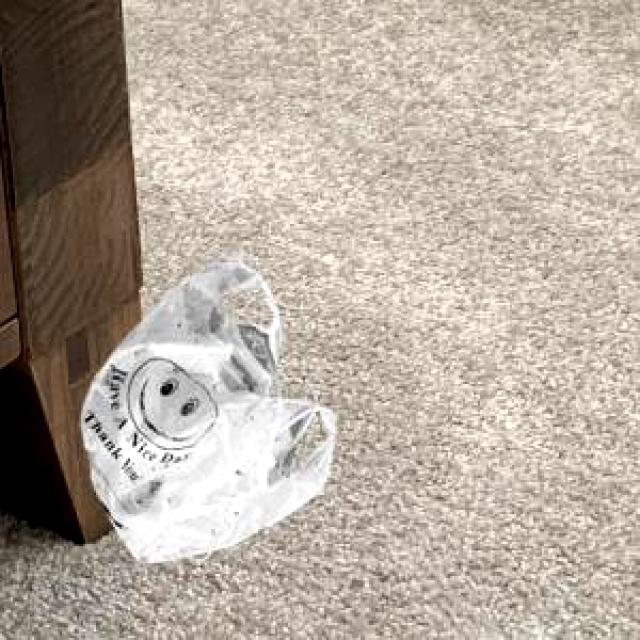Plastic_Bag: (78, 253, 334, 560)
